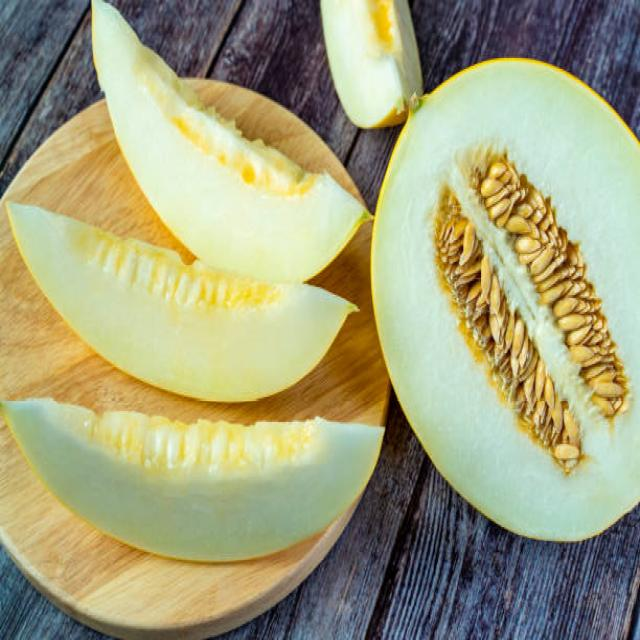melon: (402, 57, 640, 548), (0, 400, 387, 568), (85, 0, 328, 225), (37, 261, 357, 404)
